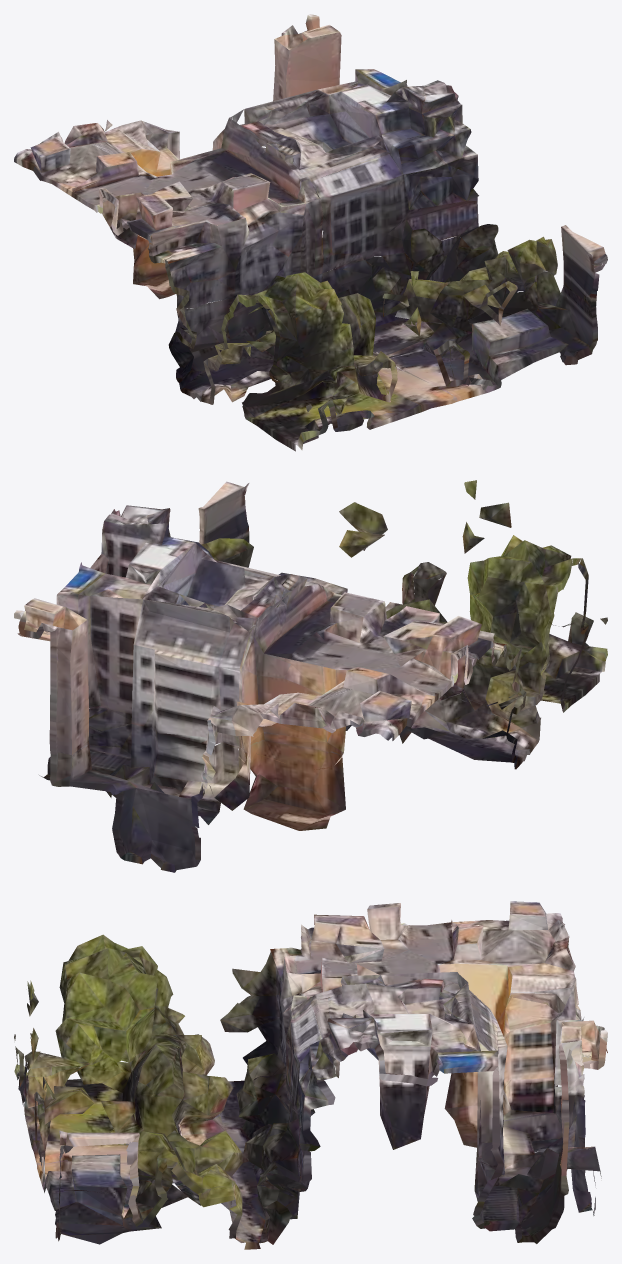
3 views of the same model, one above another, from view 1: azimuth 30°, elevation 25°; view 2: azimuth 150°, elevation 25°; view 3: azimuth 270°, elevation 25° (orthographic). The views are drawn at different scales.
Visible parts, largest first — view 1: Mesh_0; view 2: Mesh_0; view 3: Mesh_0.
Part boxes in pixels (x1,y1,x2,y2): Mesh_0: (14,14,607,451); Mesh_0: (14,480,607,872); Mesh_0: (14,901,607,1249).
Bounding box in the file's own units: 66.83 × 37.44 × 82.55.
1 material, 1 textured.
